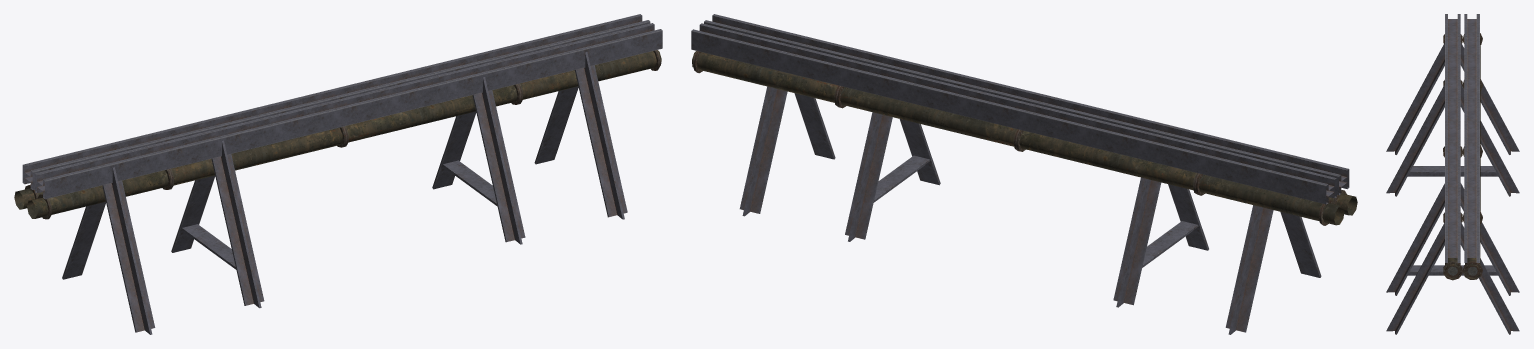
Rendered from SM_Barrier_A.fbx.
The picture shows the model from 3 angles, left to right: view 1: azimuth 30°, elevation 25°; view 2: azimuth 150°, elevation 25°; view 3: azimuth 270°, elevation 25°; orthographic projection. The views are drawn at different scales.
Parts seen in each view (by area): view 1: SM_Barrier_A; view 2: SM_Barrier_A; view 3: SM_Barrier_A.
Boxes of the visible parts, x1,y1,x2,y2 form: SM_Barrier_A: (14, 14, 662, 334); SM_Barrier_A: (691, 14, 1357, 334); SM_Barrier_A: (1386, 14, 1519, 334).
Size of the model in its own units: 717 by 157 by 170.
